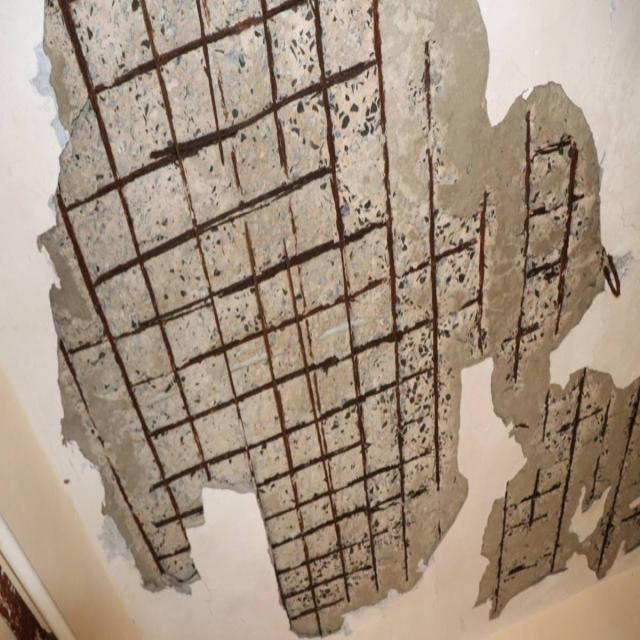spalling: (39, 0, 639, 635)
stain_mould: (92, 166, 335, 286)
